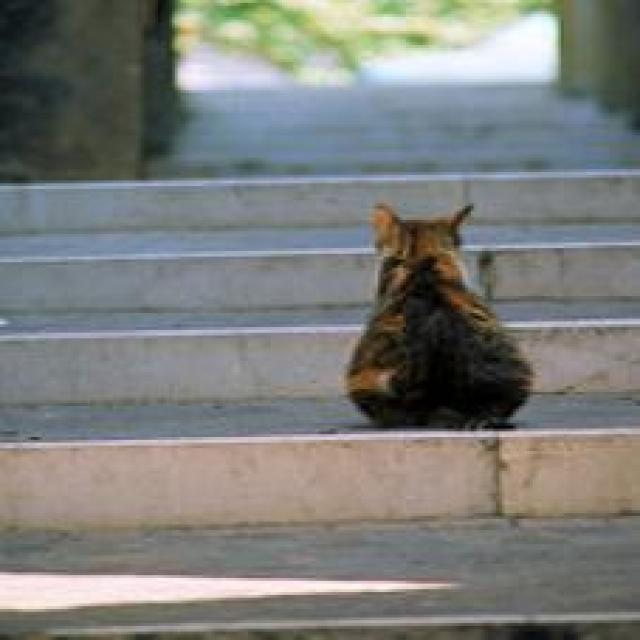upstair: (12, 249, 633, 511)
